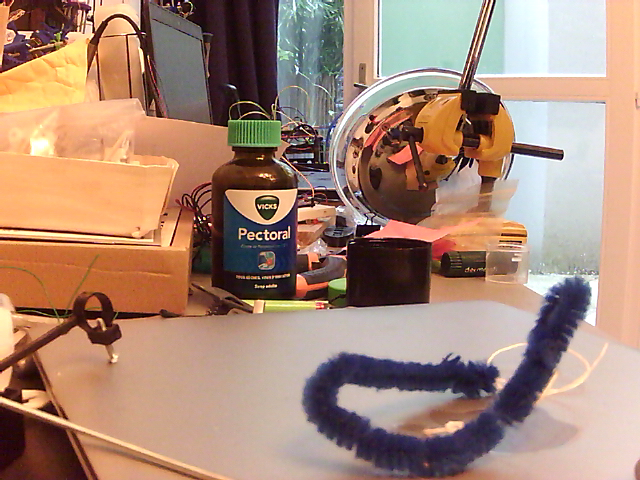lighter: (247, 299, 330, 314)
